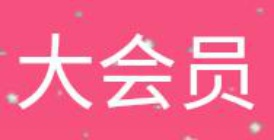TextView: (1, 1, 273, 139)
